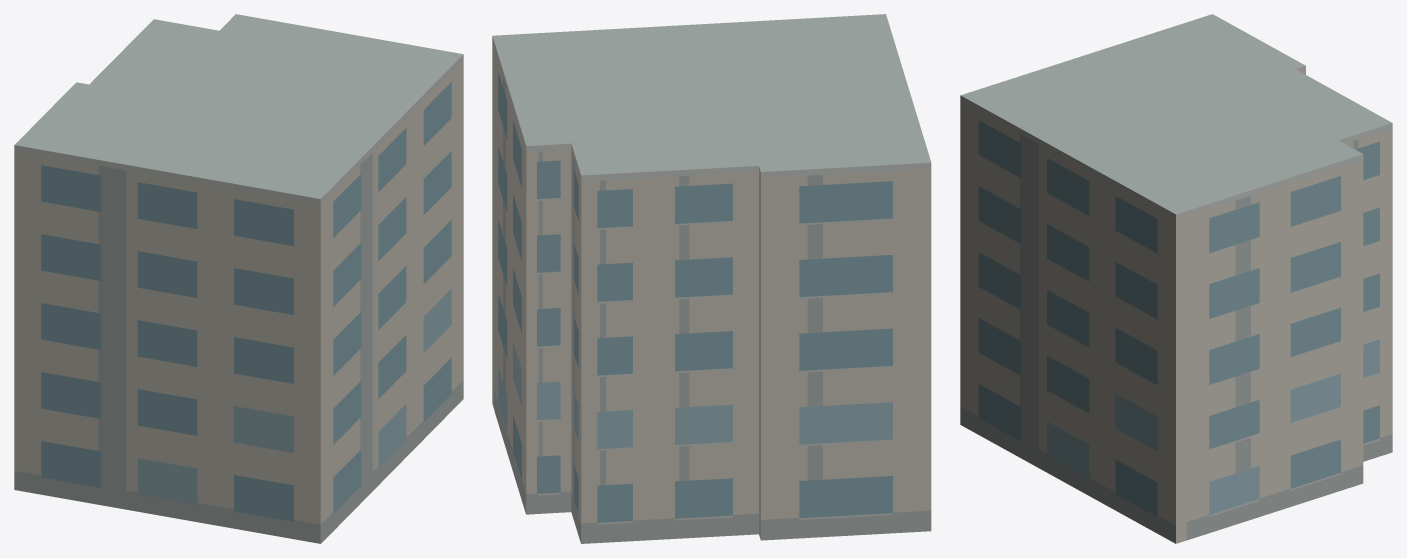
The model's file is residential-8baa3cca-5693-416e-8d61-936078c03674.glb.
3 views of the same model, side by side, from view 1: azimuth 30°, elevation 25°; view 2: azimuth 150°, elevation 25°; view 3: azimuth 270°, elevation 25° (orthographic). The views are drawn at different scales.
Visible parts, largest first — view 1: residential-8baa3cca-5693-416e-8d61-936078c03674.tmp; view 2: residential-8baa3cca-5693-416e-8d61-936078c03674.tmp; view 3: residential-8baa3cca-5693-416e-8d61-936078c03674.tmp.
Boxes of the visible parts, x1,y1,x2,y2 form: residential-8baa3cca-5693-416e-8d61-936078c03674.tmp: (14, 14, 463, 543); residential-8baa3cca-5693-416e-8d61-936078c03674.tmp: (492, 14, 931, 543); residential-8baa3cca-5693-416e-8d61-936078c03674.tmp: (960, 14, 1392, 543).
Size of the model in its own units: 18.67 by 14.3 by 17.01.
